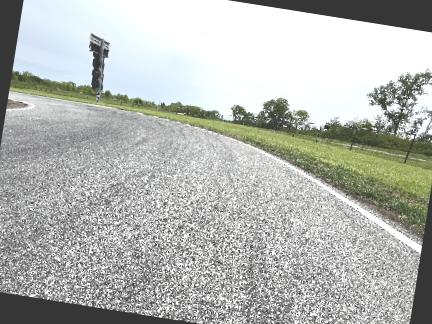Grass: (101, 104, 431, 240), (9, 86, 96, 104), (7, 100, 10, 105)
Lane: (0, 93, 419, 323)
